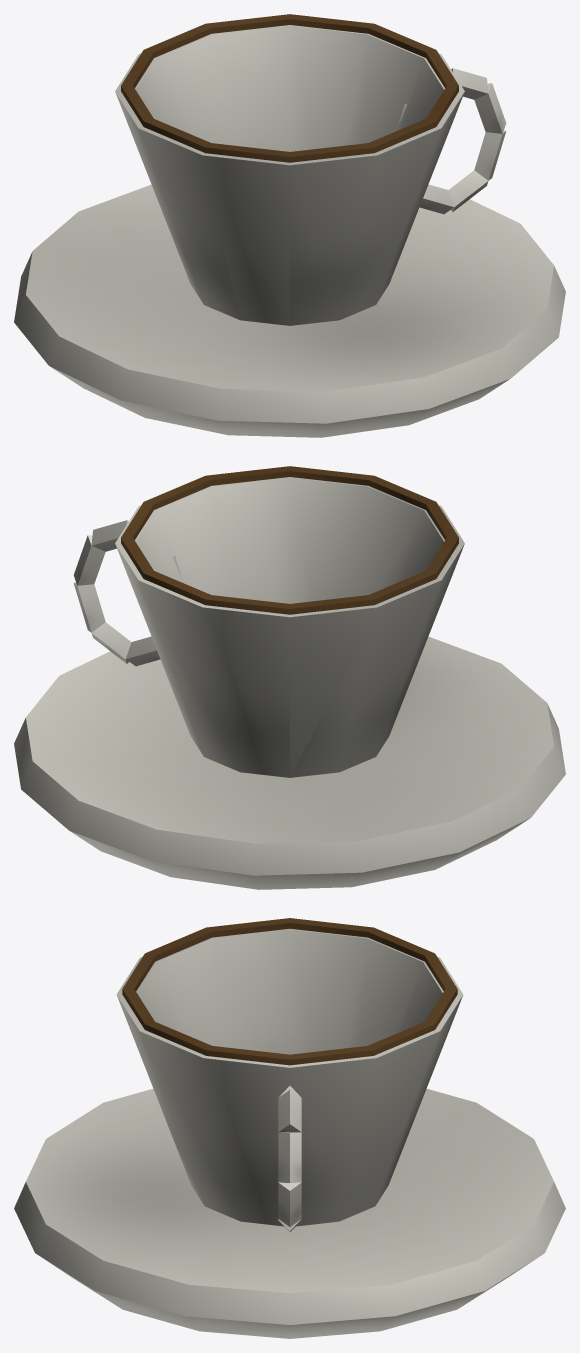
File: Hold_Teacup.fbx
3 views of the same model, one above another, from view 1: azimuth 30°, elevation 25°; view 2: azimuth 150°, elevation 25°; view 3: azimuth 270°, elevation 25° (orthographic).
Visible parts, largest first — view 1: Hold_Teacup; view 2: Hold_Teacup; view 3: Hold_Teacup.
Part boxes in pixels (x1,y1,x2,y2): Hold_Teacup: (14, 14, 565, 437); Hold_Teacup: (14, 466, 565, 889); Hold_Teacup: (14, 918, 565, 1338).
Size of the model in its own units: 0.14 by 0.07 by 0.14.
Materials: 2 (2 with a texture image).
